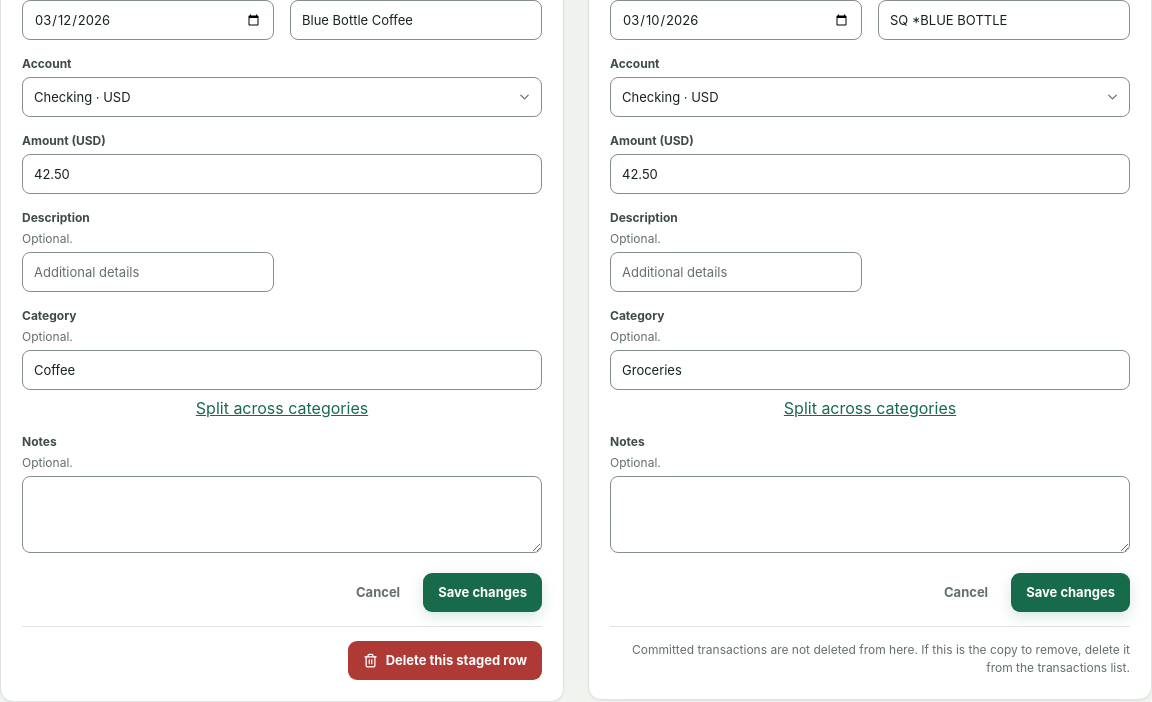
Scenario: reviewing two records of one payment › says the run is finished when the last one is dropped
The width and height of the screenshot is (1152, 702).
(page scrolled)
Click the button "Delete this staged row".
click(445, 660)  # box [348,641,542,680]
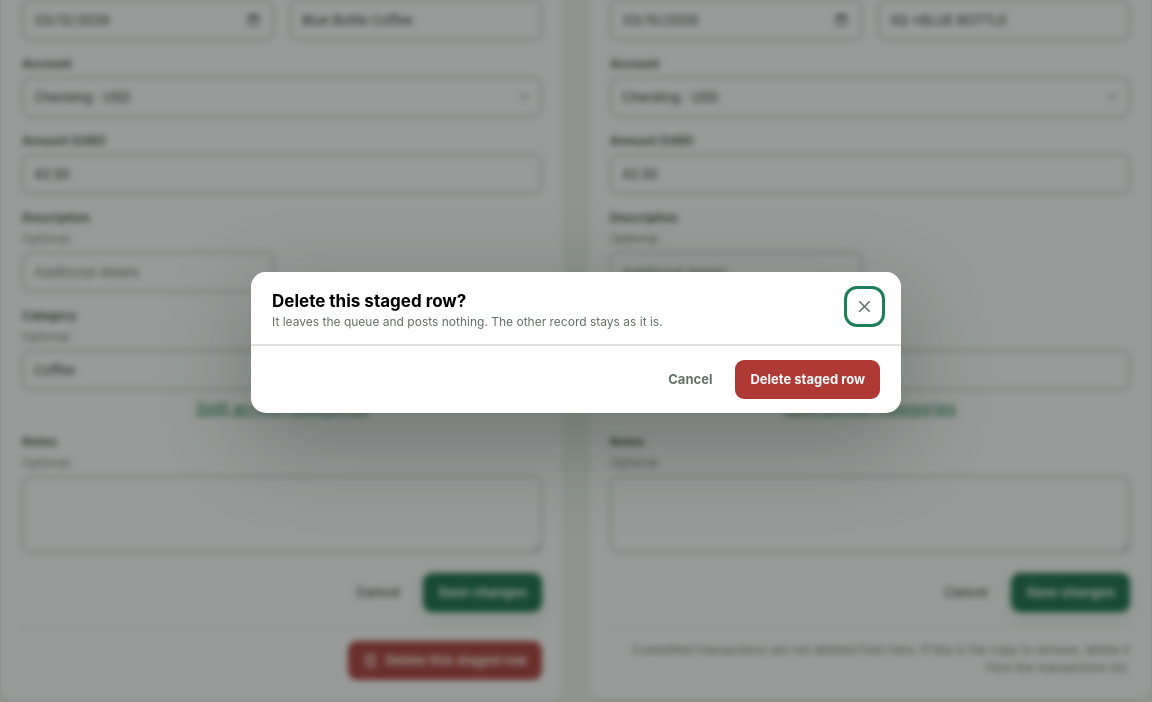
Click the button "Delete staged row".
click(808, 379)  # box [735,360,880,398]
(page scrolled)
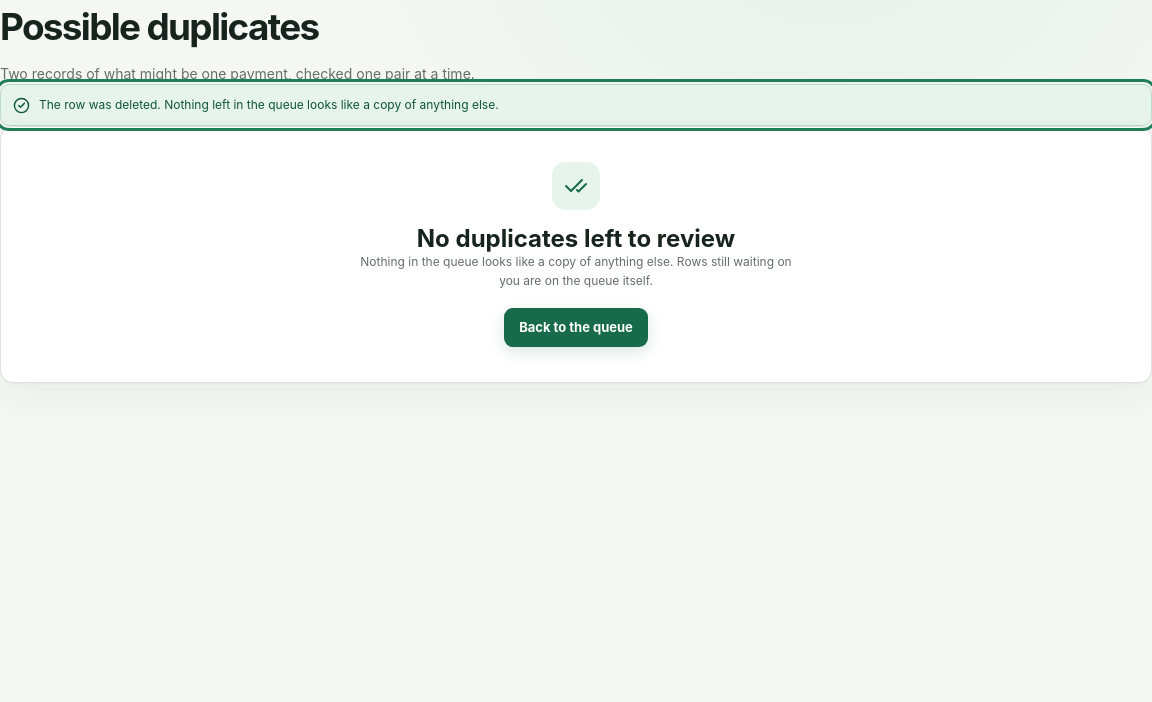
Check: the heading "No duplicates left to review" is shown, box [417,224,735,253]
